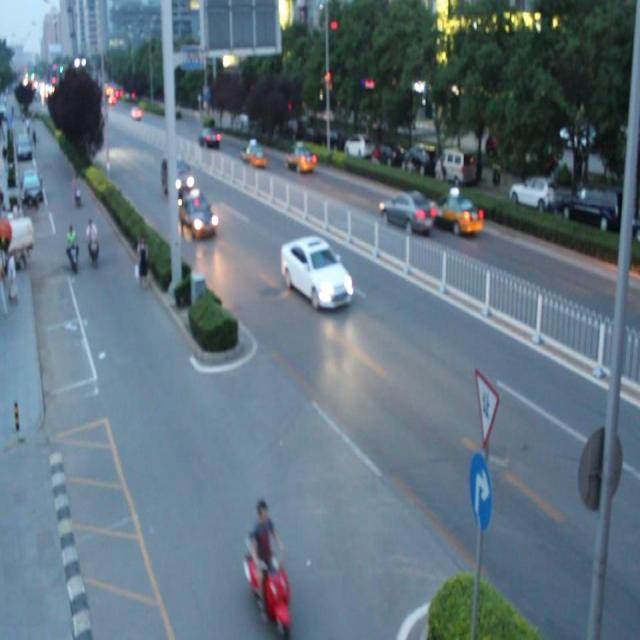car: (279, 234, 352, 309), (427, 188, 482, 232), (378, 190, 432, 232), (179, 193, 215, 237), (285, 143, 313, 173), (240, 139, 266, 168), (198, 124, 220, 147)
truck: (162, 154, 190, 193)
